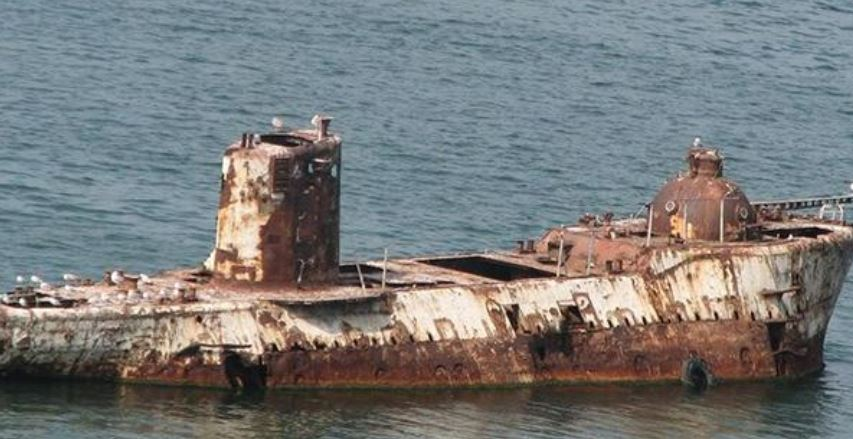rust: (265, 149, 337, 284), (566, 338, 805, 377), (268, 350, 526, 386), (666, 186, 743, 232), (140, 361, 222, 382)
